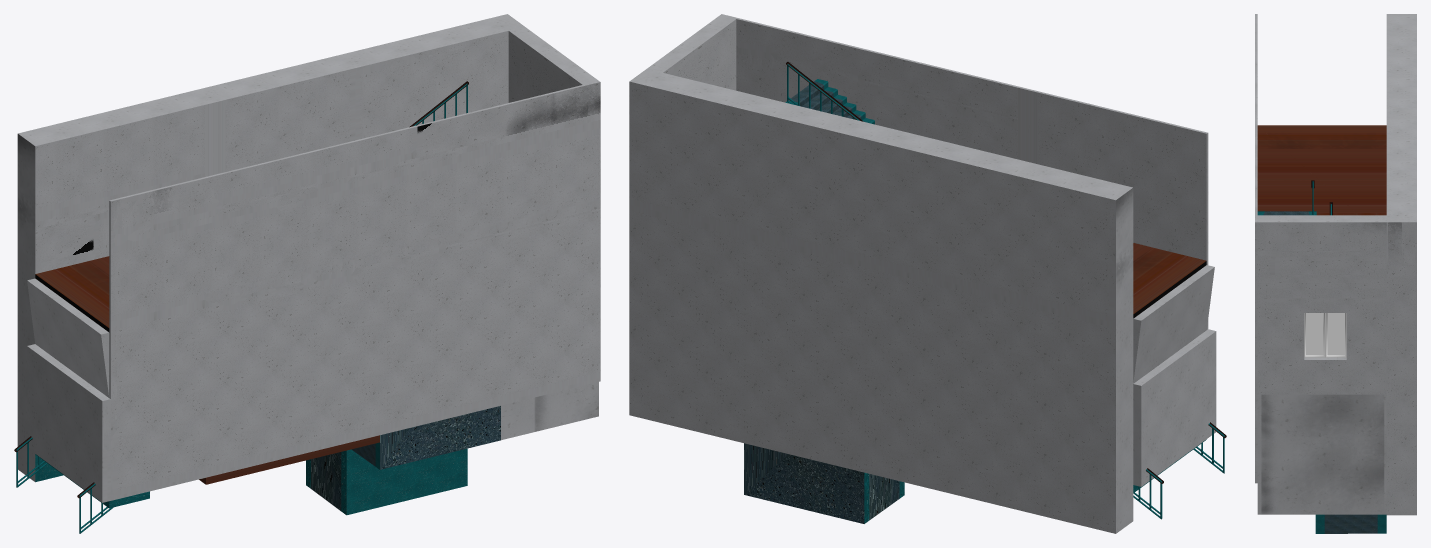
Rendered from enterence.glb.
3 renders of one model, left to right at view 1: azimuth 30°, elevation 25°; view 2: azimuth 150°, elevation 25°; view 3: azimuth 270°, elevation 25°, orthographic. The views are drawn at different scales.
Parts seen in each view (by area): view 1: Wall.001, Wall.003, Cube.004, Cube.009, Cube.005, Cube, Cube.008, Cube.003, Cube.006, Cube.002; view 2: Wall.003, Wall.001, Cube.004, Cube.009, Cube.005, Cube.008, Cube.006, Cube.012; view 3: Cube.008, Cube.003, Wall.003, Cube.006, Window.001, Cube.009, Wall.001, Cube.012.
Boxes of the visible parts, x1,y1,x2,y2 form: Wall.001: [109, 81, 600, 500]; Wall.003: [17, 14, 524, 482]; Cube.004: [27, 344, 110, 502]; Cube.009: [306, 448, 467, 515]; Cube.005: [27, 278, 109, 397]; Cube: [351, 406, 500, 469]; Cube.008: [508, 27, 598, 102]; Cube.003: [501, 382, 598, 440]; Cube.006: [35, 256, 109, 332]; Cube.002: [199, 435, 379, 484]; Wall.003: [629, 69, 1133, 533]; Wall.001: [721, 14, 1208, 329]; Cube.004: [1133, 329, 1216, 486]; Cube.009: [744, 443, 904, 523]; Cube.005: [1133, 265, 1214, 383]; Cube.008: [647, 15, 736, 90]; Cube.006: [1133, 243, 1206, 318]; Cube.012: [785, 79, 874, 124]; Cube.008: [1257, 215, 1386, 394]; Cube.003: [1257, 394, 1386, 514]; Wall.003: [1386, 14, 1416, 515]; Cube.006: [1257, 125, 1386, 215]; Window.001: [1304, 313, 1346, 357]; Cube.009: [1315, 514, 1386, 533]; Wall.001: [1255, 14, 1257, 483]; Cube.012: [1257, 211, 1316, 215].
Size of the model in its own units: 15.12 by 11.37 by 4.73.
11 materials, 8 textured.
